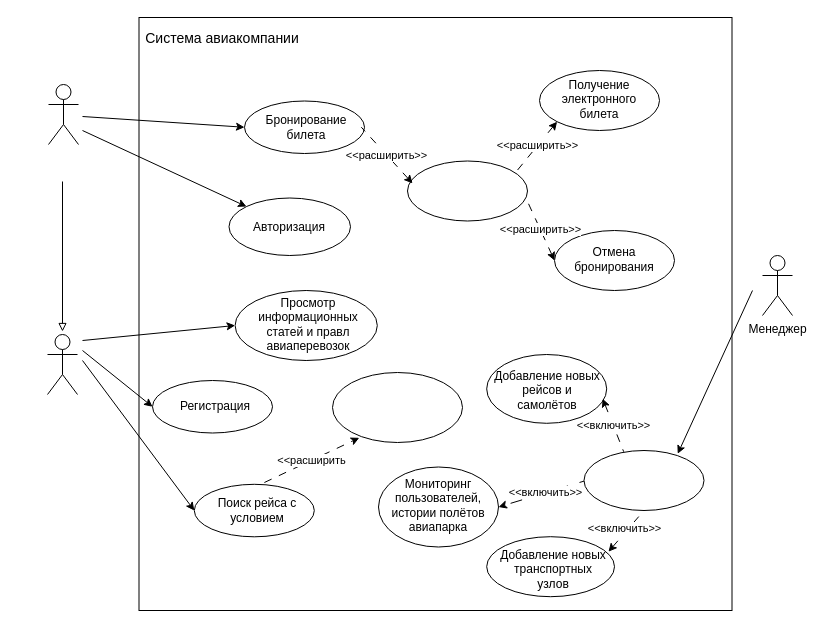
This 824x628 diagram has some shape labels left out. Each missing label, with the centre of its shape:
"Авторизованный пользователь" goes at (63,114).
"Гость" goes at (62,364).
"Просмотр детальной информации о рейсах" goes at (397,407).
"Просмотр статуса бронирования" goes at (467,190).
"Управление данными таблиц ,базы данных" goes at (643,480).
